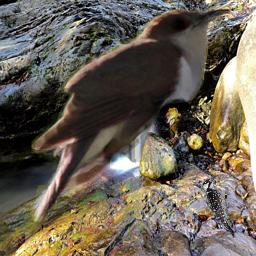Cuckoo: (25, 4, 232, 251)
Woodpecker: (202, 175, 235, 238)
